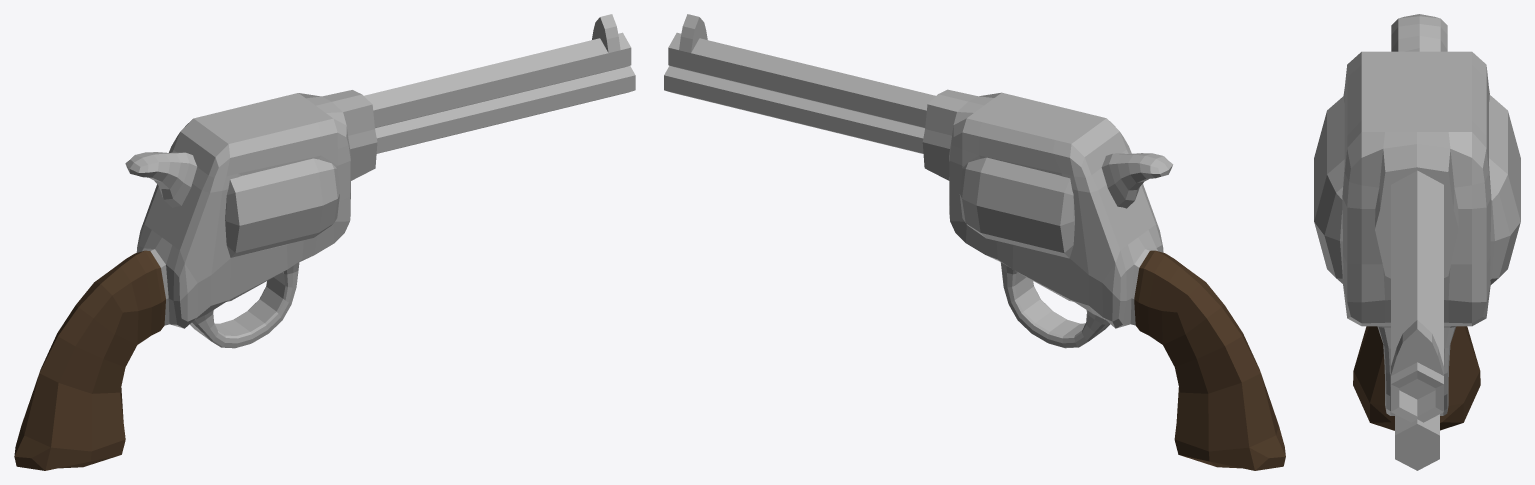
File: Revolver.fbx
The picture shows the model from 3 angles, left to right: view 1: azimuth 30°, elevation 25°; view 2: azimuth 150°, elevation 25°; view 3: azimuth 270°, elevation 25°; orthographic projection. The views are drawn at different scales.
Parts seen in each view (by area): view 1: Revolver; view 2: Revolver; view 3: Revolver.
Boxes of the visible parts, x1,y1,x2,y2 form: Revolver: [14, 14, 635, 470]; Revolver: [664, 14, 1285, 470]; Revolver: [1314, 14, 1520, 470].
Size of the model in its own units: 431 by 211 by 79.88.
